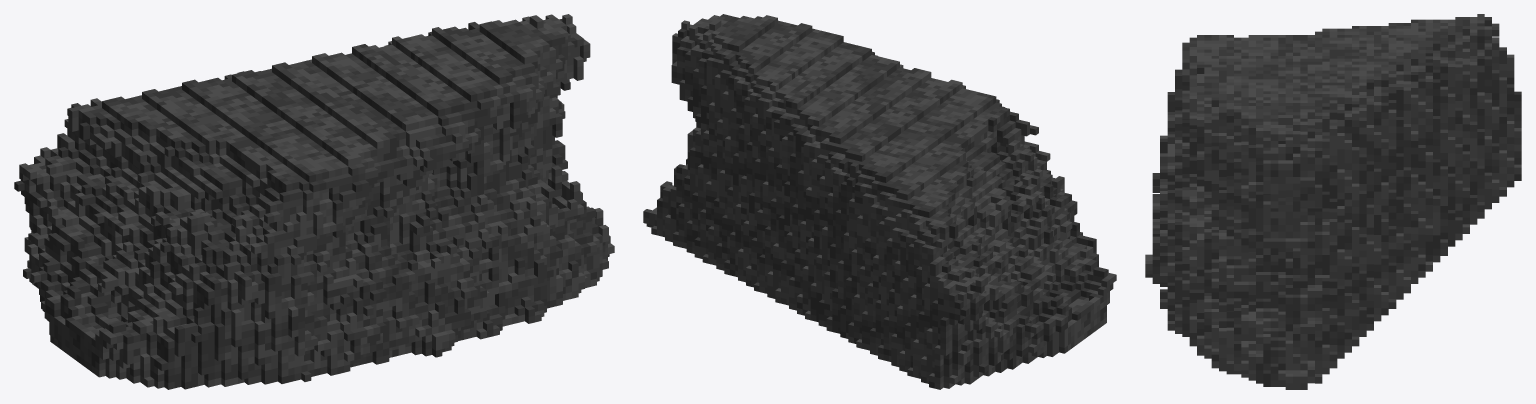
The model's file is Rocas-2.obj.
3 renders of one model, left to right at view 1: azimuth 30°, elevation 25°; view 2: azimuth 150°, elevation 25°; view 3: azimuth 270°, elevation 25°, orthographic. The views are drawn at different scales.
Bounding box in the file's own units: 7.9 × 3.6 × 5.1.
Materials: 1 (1 with a texture image).
